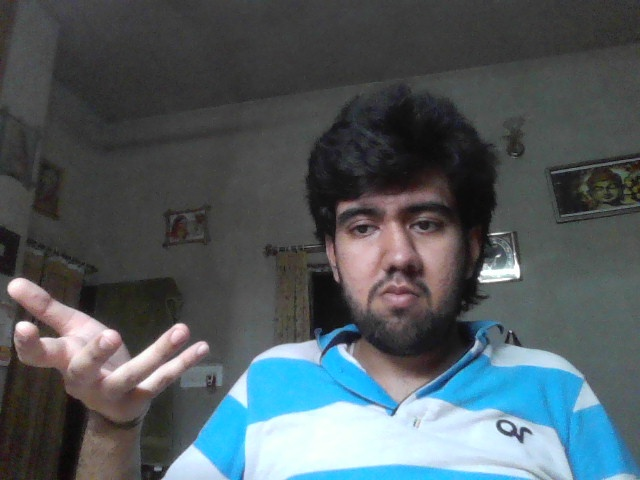What: (7, 278, 210, 425)
